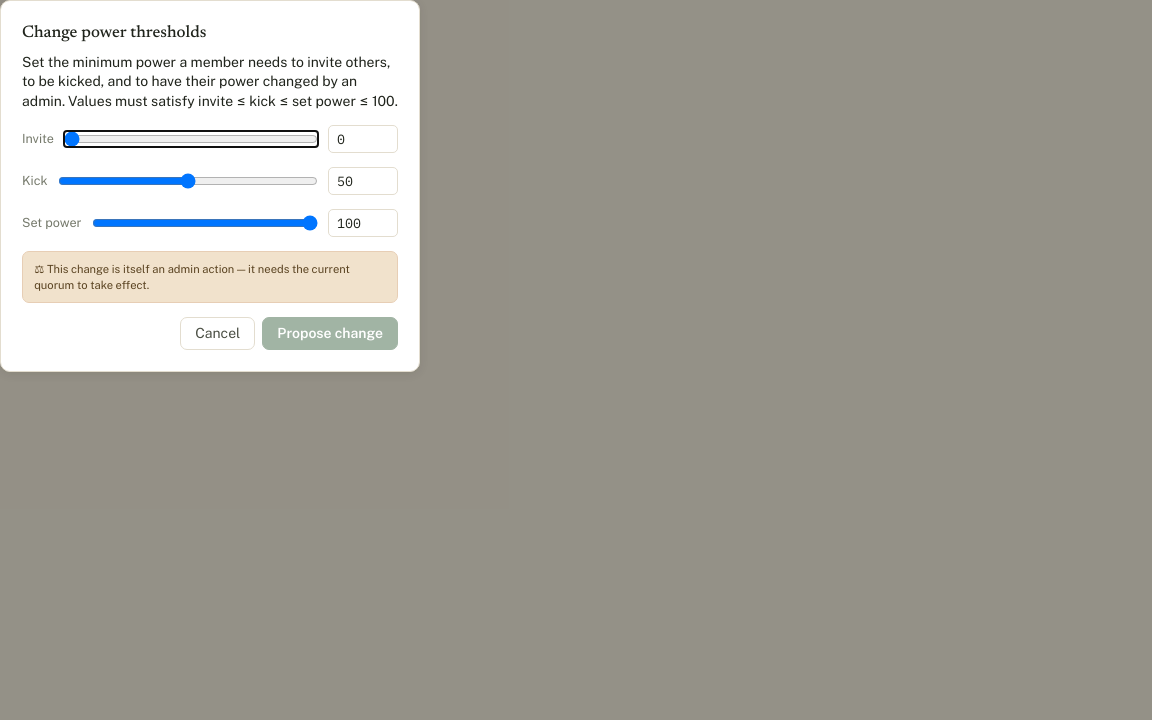
ChangeThresholdsDialog › propose_button_disabled_when_ordering_invalid
The width and height of the screenshot is (1152, 720).
Expected: the button "Propose change" is disabled, [262,316,398,350]
Replace the text in the number field named "Invite threshold number" with "60" at (363, 139), box [328,125,398,153]
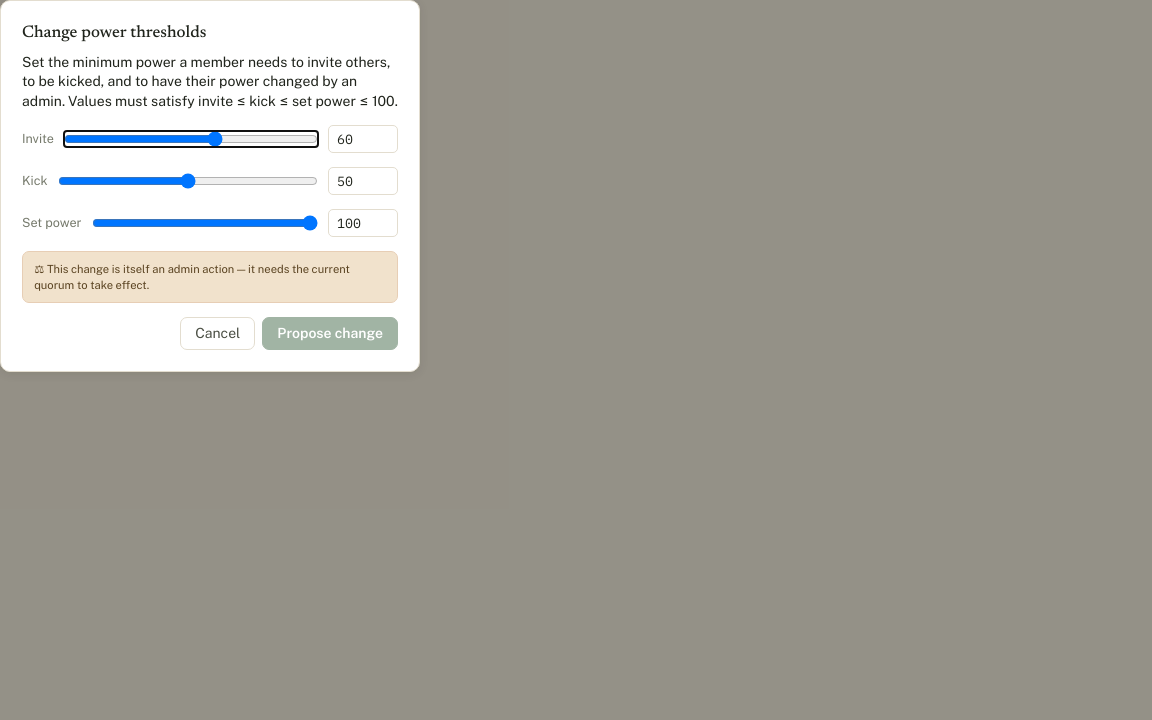
Expected: the button "Propose change" is disabled, [262,316,398,350]
// Restore a valid, different value.
Replace the text in the number field named "Invite threshold number" with "10" at (363, 139), box [328,125,398,153]
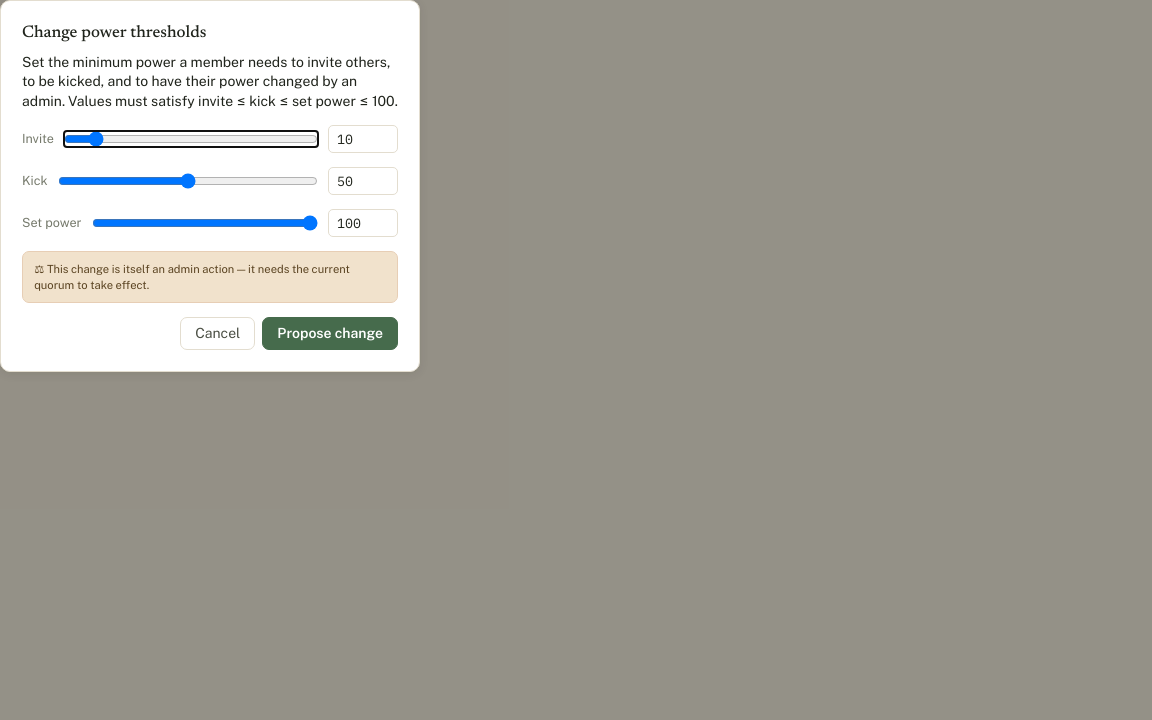
Expected: the button "Propose change" is enabled, [262,316,398,350]
